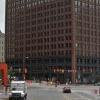Traffic light: (18, 55, 36, 81)
